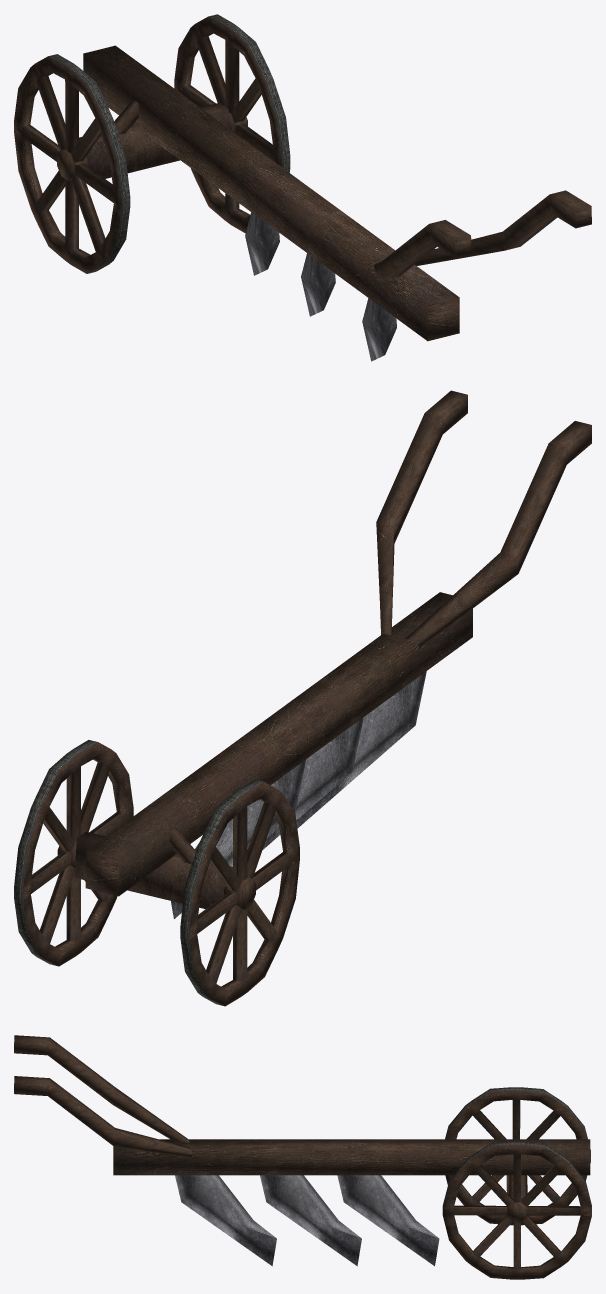
File: GS_FURNITURE_PLOW_01_KWIATEK.glb
3 views of the same model, one above another, from view 1: azimuth 30°, elevation 25°; view 2: azimuth 150°, elevation 25°; view 3: azimuth 270°, elevation 25° (orthographic). The views are drawn at different scales.
Visible parts, largest first — view 1: Mesh; view 2: Mesh; view 3: Mesh.
Part boxes in pixels (x1=…): Mesh: x1=14, y1=14, x2=591, y2=361; Mesh: x1=14, y1=390, x2=591, y2=1006; Mesh: x1=14, y1=1035, x2=591, y2=1279.
Size of the model in its own units: 0.6003 by 0.917 by 2.44.
Materials: 2 (2 with a texture image).
